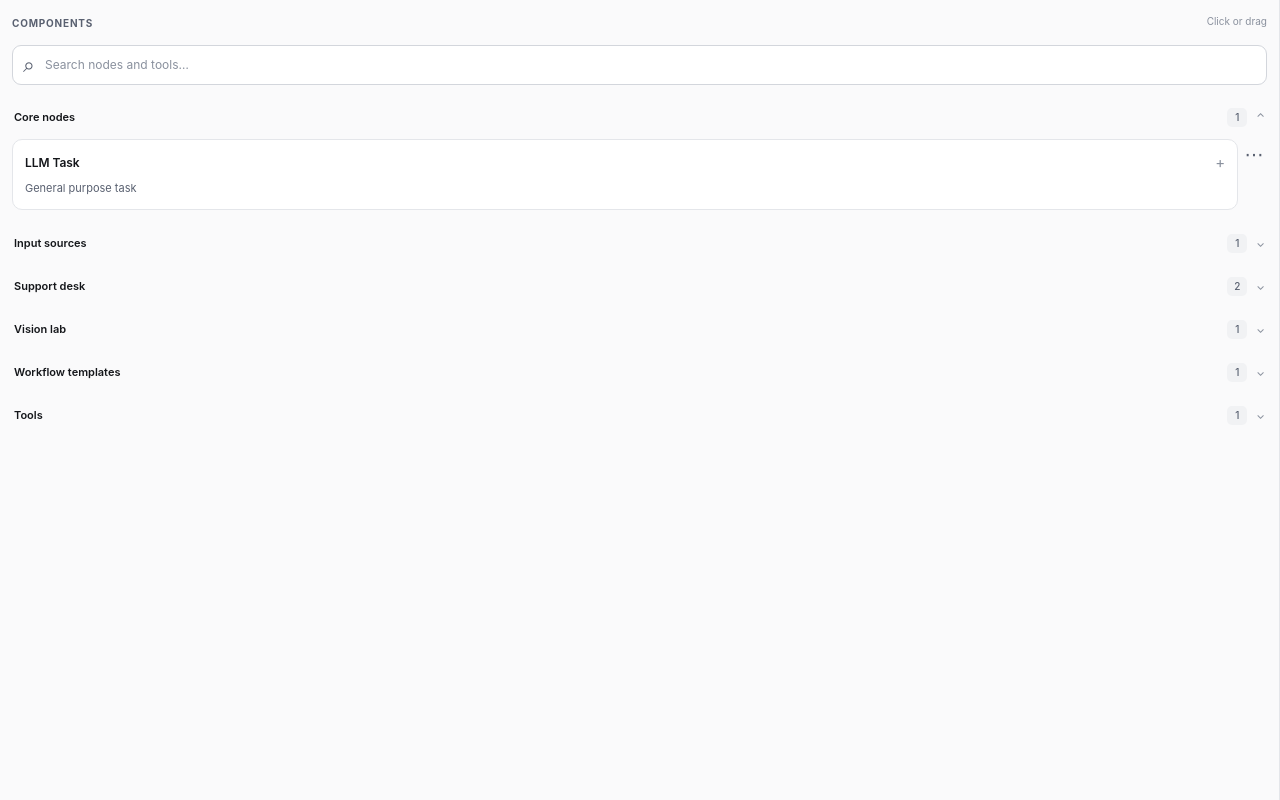
it: node library hierarchy › searches across folded groups and exposes matching results
This screenshot has width=1280, height=800.
In the search field named "Search node library": (640, 65) x1=12 y1=45 x2=1267 y2=85, type "save"
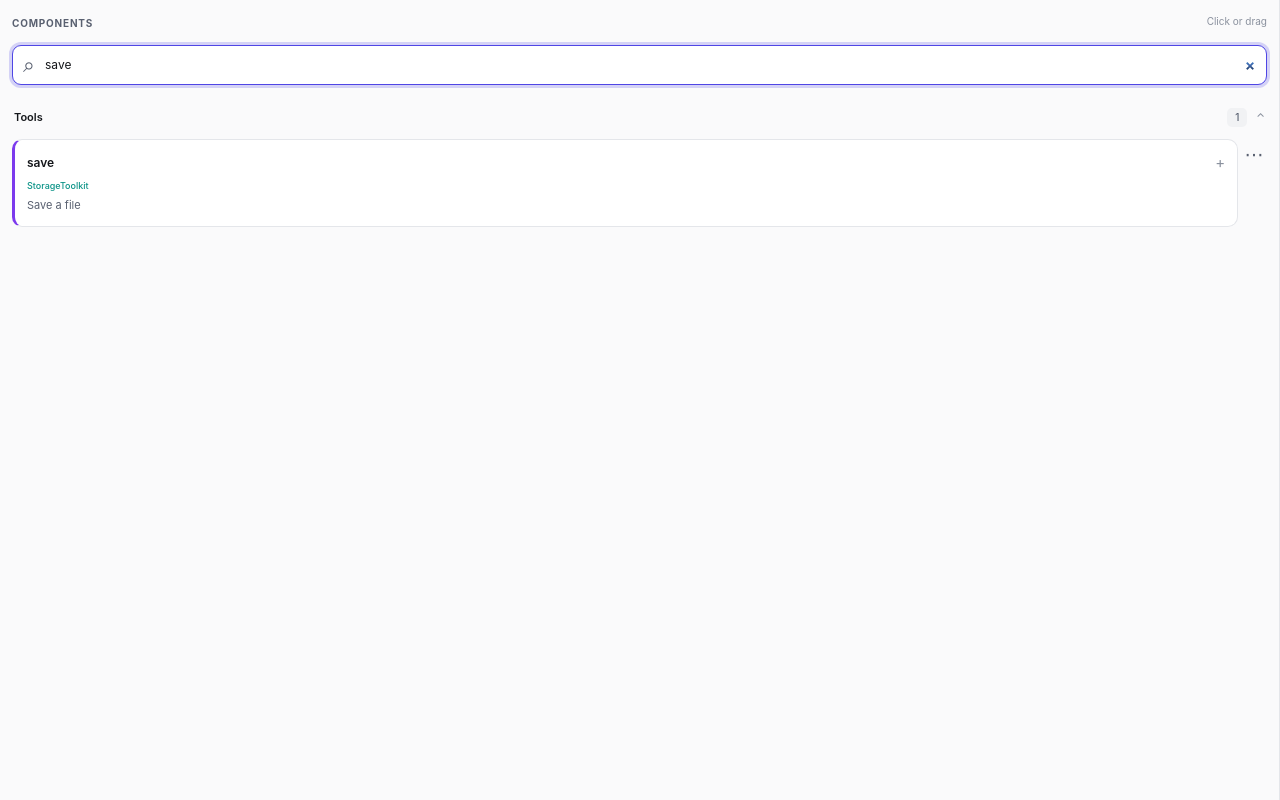
Expected: the text "save" is shown, x1=27 y1=154 x2=54 y2=172
Expected: the button "LLM Task" is gone
